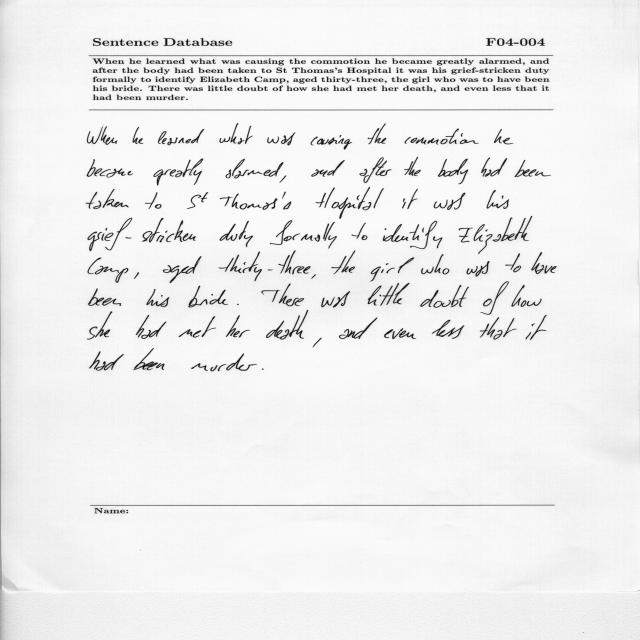word: (88, 218, 196, 251), (459, 216, 533, 254), (219, 251, 311, 281), (316, 187, 384, 219), (270, 220, 337, 249), (383, 221, 442, 249), (154, 159, 204, 186), (220, 192, 291, 210), (266, 310, 308, 340), (404, 129, 479, 145), (191, 354, 257, 372), (420, 285, 469, 308), (226, 159, 284, 178), (370, 258, 414, 282), (88, 257, 128, 283), (163, 256, 201, 283), (261, 284, 304, 307), (368, 283, 410, 306), (480, 282, 509, 315), (219, 221, 253, 247), (188, 286, 228, 308), (86, 189, 129, 209), (359, 157, 392, 183), (480, 317, 517, 340), (87, 159, 133, 177), (179, 316, 216, 338), (339, 318, 377, 339), (438, 159, 468, 184), (158, 129, 204, 145), (88, 311, 113, 340), (136, 315, 166, 339), (219, 124, 253, 145), (133, 349, 165, 371), (90, 351, 124, 371), (512, 285, 542, 307), (514, 160, 551, 177), (432, 320, 464, 339), (89, 288, 122, 306), (311, 160, 345, 177), (311, 135, 352, 149), (531, 252, 557, 274), (88, 126, 118, 145), (421, 255, 449, 275), (332, 251, 356, 274), (226, 315, 250, 338), (434, 193, 466, 210), (526, 315, 547, 340), (481, 158, 507, 177), (321, 291, 350, 308), (487, 190, 509, 209), (147, 289, 170, 307), (368, 124, 386, 145), (467, 261, 490, 277), (268, 133, 296, 146), (187, 192, 208, 209), (384, 328, 416, 339), (404, 157, 421, 176), (402, 189, 418, 209), (505, 254, 521, 273), (145, 192, 162, 209), (494, 129, 513, 144), (352, 223, 368, 240), (133, 127, 144, 144), (313, 338, 322, 348), (280, 176, 287, 183), (134, 272, 139, 279), (311, 274, 316, 279), (237, 304, 239, 305), (262, 369, 264, 370)
